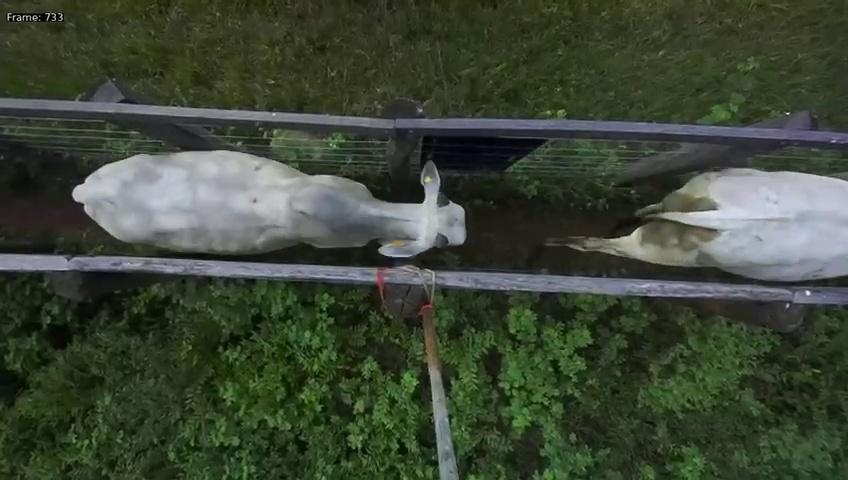cattle: (72, 130, 468, 259)
